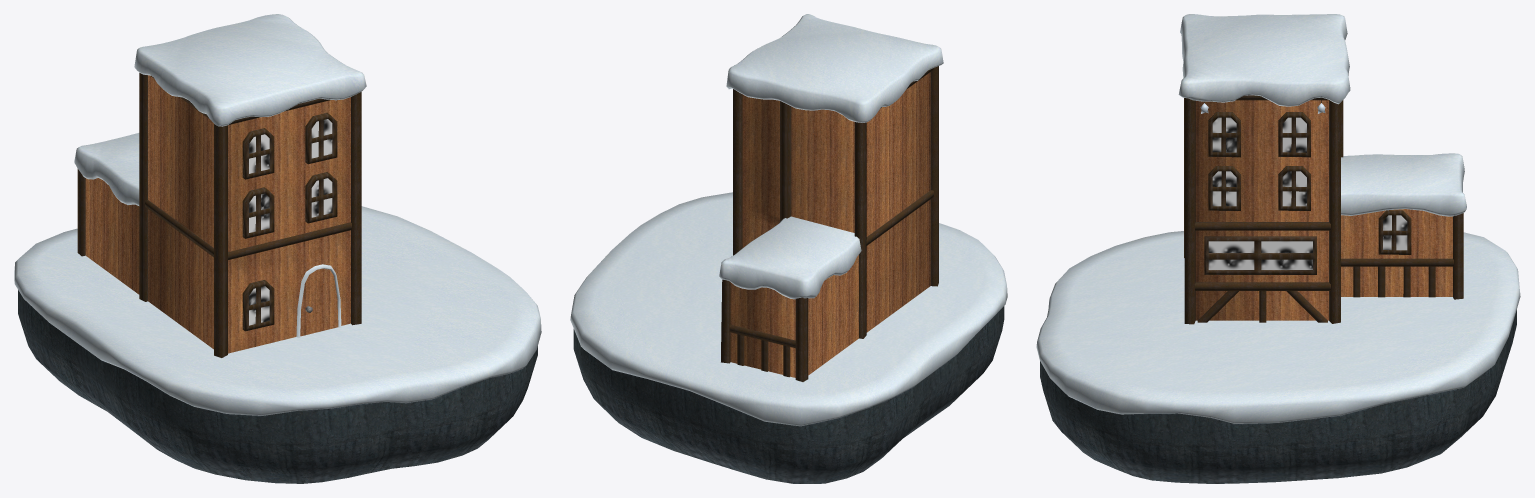
The model's file is NoelCityStepA.fbx.
3 renders of one model, left to right at view 1: azimuth 30°, elevation 25°; view 2: azimuth 150°, elevation 25°; view 3: azimuth 270°, elevation 25°, orthographic. The views are drawn at different scales.
Parts seen in each view (by area): view 1: Plane.001, Plane.004, Plane.005, Plane.003, Plane.000; view 2: Plane.001, Plane.004, Plane.005, Plane.003; view 3: Plane.001, Plane.005, Plane.004, Plane.003, Plane.000.
Part boxes in pixels (x1,y1,x2,y2): Plane.001: (14,14,541,415); Plane.004: (85,75,350,353); Plane.005: (18,290,537,483); Plane.003: (77,73,361,357); Plane.000: (249,119,332,325); Plane.001: (570,14,1007,426); Plane.004: (730,72,930,377); Plane.005: (573,306,1004,483); Plane.003: (721,66,938,381); Plane.001: (1036,14,1520,423); Plane.005: (1040,310,1516,483); Plane.004: (1195,100,1452,320); Plane.003: (1184,95,1463,324); Plane.000: (1208,117,1407,269).
Size of the model in its own units: 310510 by 274824 by 353317.
Materials: 6 (6 with a texture image).
